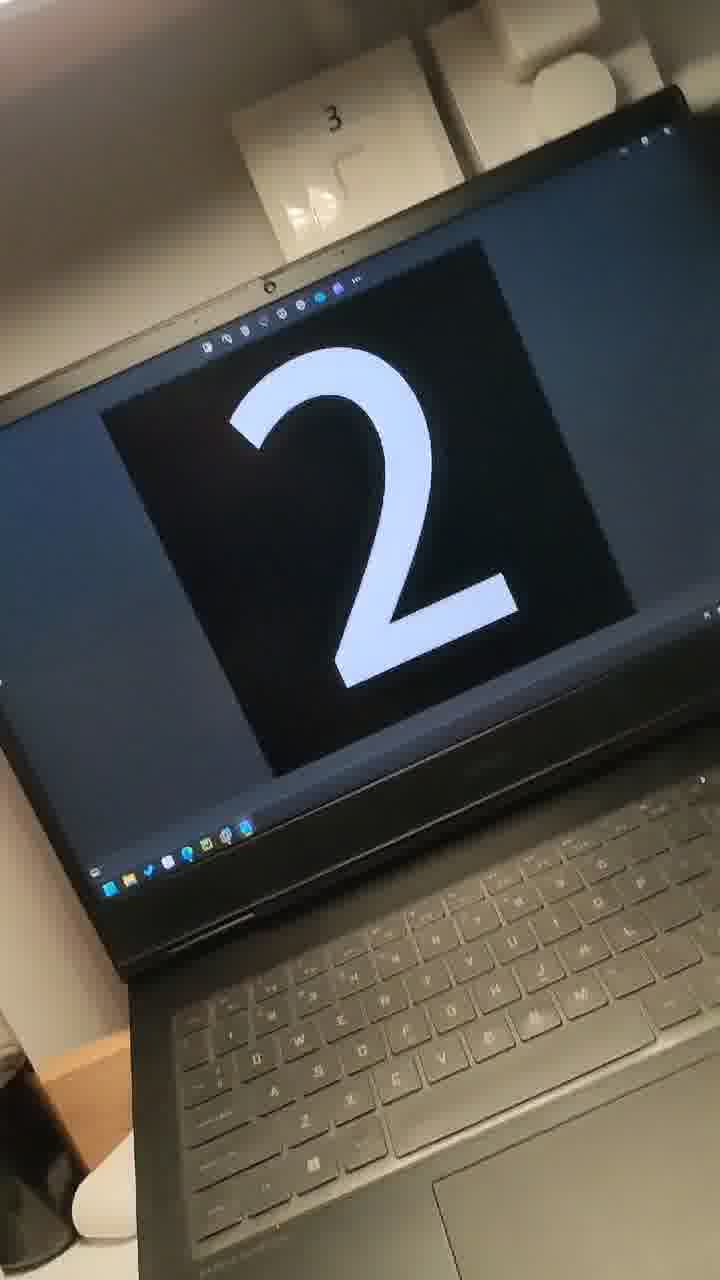two: (166, 286, 578, 733)
